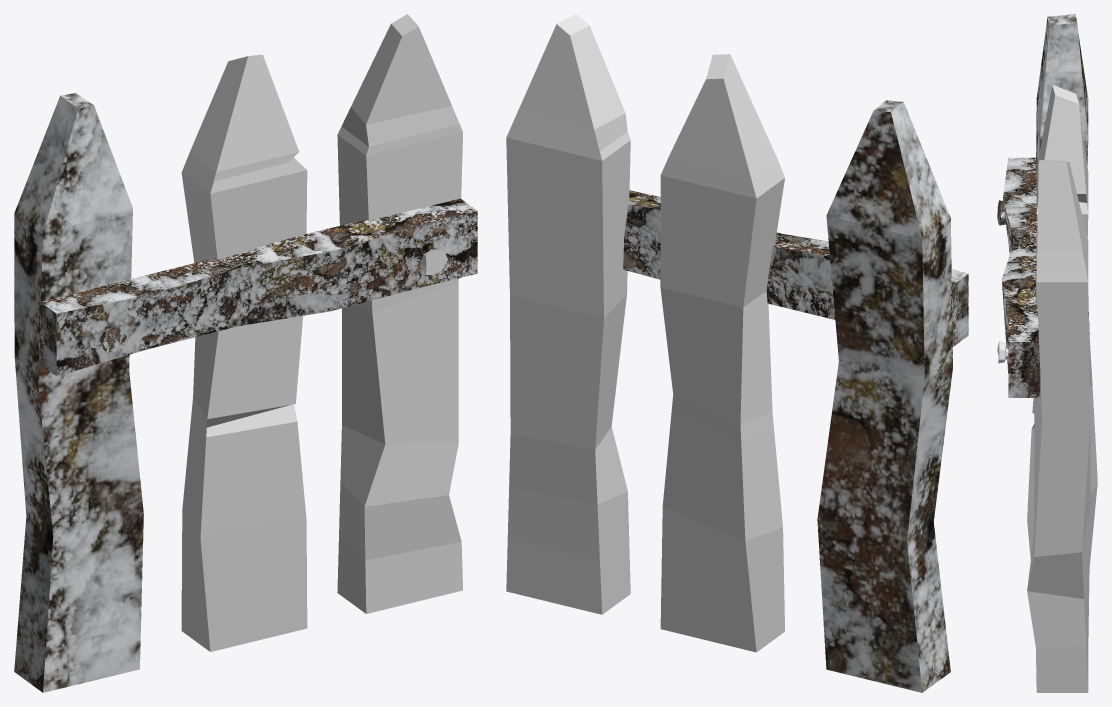
The model's file is Fences.fbx.
The picture shows the model from 3 angles, left to right: view 1: azimuth 30°, elevation 25°; view 2: azimuth 150°, elevation 25°; view 3: azimuth 270°, elevation 25°; orthographic projection. The views are drawn at different scales.
Parts seen in each view (by area): view 1: Fence_0, Fence_1, Fence_2, Fence_FRONT; view 2: Fence_0, Fence_2, Fence_1, Fence_FRONT; view 3: Fence_2, Fence_FRONT, Fence_1, Fence_0, Nail.001, Nail.
Part boxes in pixels (x1,y1,x2,y2): Fence_0: (14, 93, 143, 692); Fence_1: (181, 54, 307, 651); Fence_2: (337, 14, 462, 613); Fence_FRONT: (39, 198, 477, 376); Fence_0: (817, 100, 952, 692); Fence_2: (506, 14, 630, 614); Fence_1: (660, 54, 784, 652); Fence_FRONT: (623, 190, 968, 346); Fence_2: (1027, 160, 1090, 692); Fence_FRONT: (1001, 157, 1040, 397); Fence_1: (1027, 85, 1097, 565); Fence_0: (1036, 14, 1089, 334); Nail.001: (997, 341, 1008, 363); Nail: (997, 200, 1005, 225).
Size of the model in its own units: 317 by 414 by 72.85.
